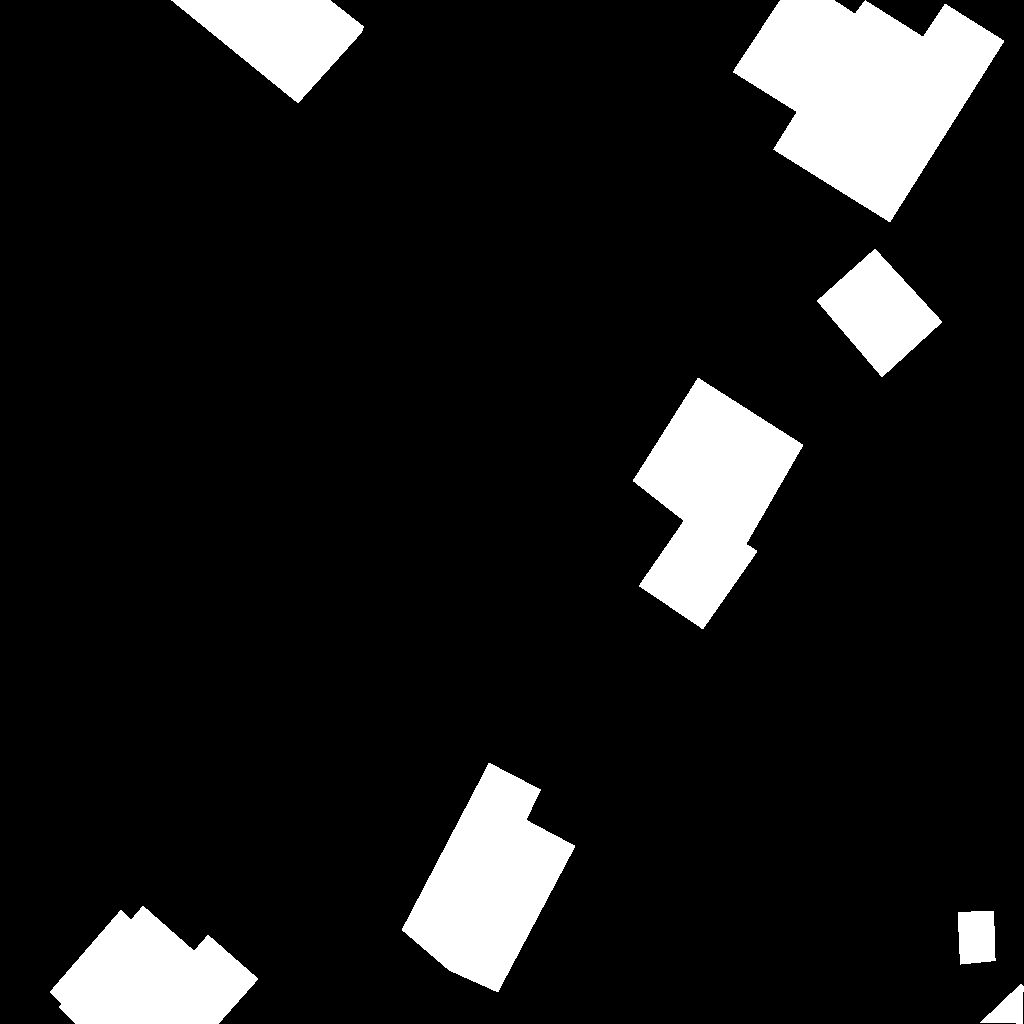building: (733, 0, 1005, 223), (633, 378, 804, 630), (402, 763, 576, 993), (50, 906, 259, 1024), (171, 0, 366, 104), (817, 249, 943, 378), (958, 911, 996, 965), (980, 984, 1024, 1024)
